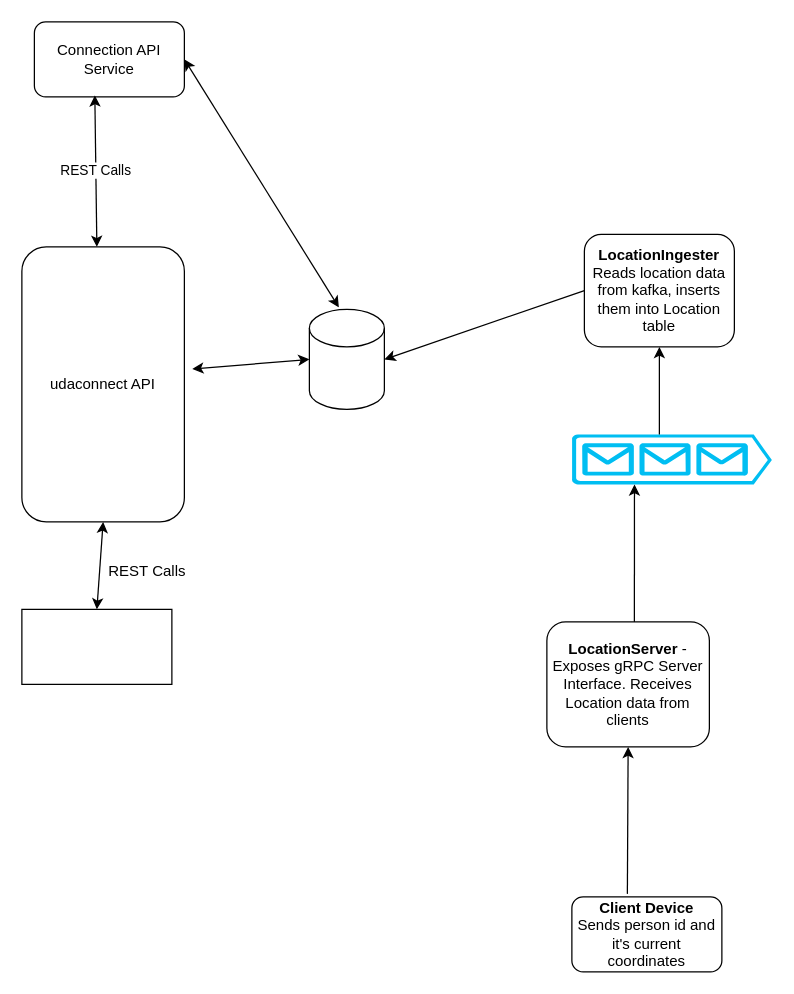
Some shapes in this 794 by 994 pixel diagram are drawn without their labels. Each missing label, with the box of its shape:
Frontend: (21, 608, 172, 684)
Kafka: (571, 434, 771, 484)
